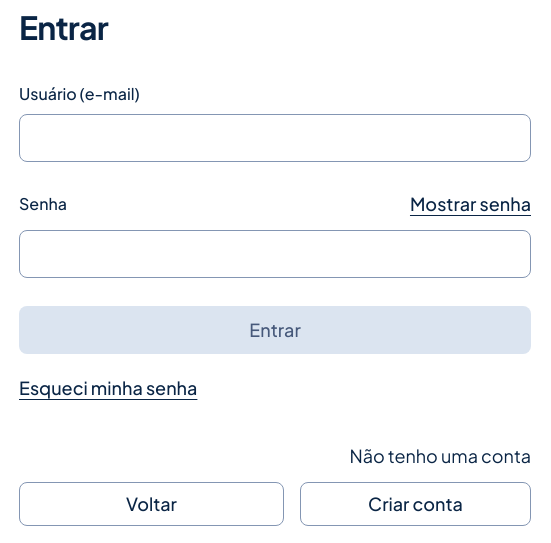
Test case: LoginPage › keeps Entrar disabled until required fields are valid
The width and height of the screenshot is (551, 543).
Expected: the button "Entrar" is disabled, [19,306,531,354]
Type "usuario@exemplo.com" into the field labelled "Usuário (e-mail)" at (275, 138), box [19,114,531,162]
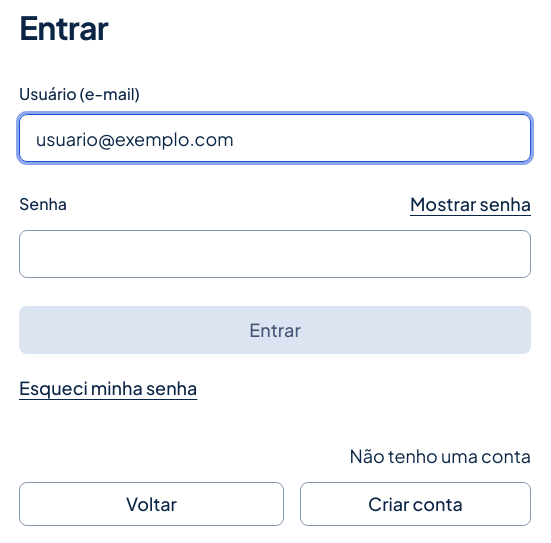
Expected: the button "Entrar" is disabled, [19,306,531,354]
Type "senha-segura" into the password field labelled "Senha" at (275, 254), box [19,230,531,278]
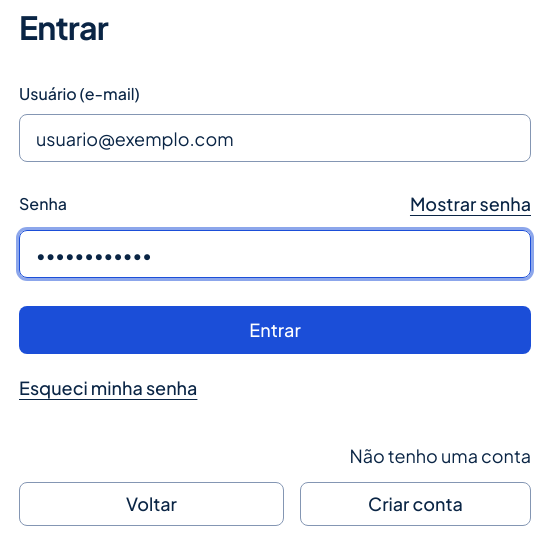
Now the button "Entrar" is enabled, box [19,306,531,354]
